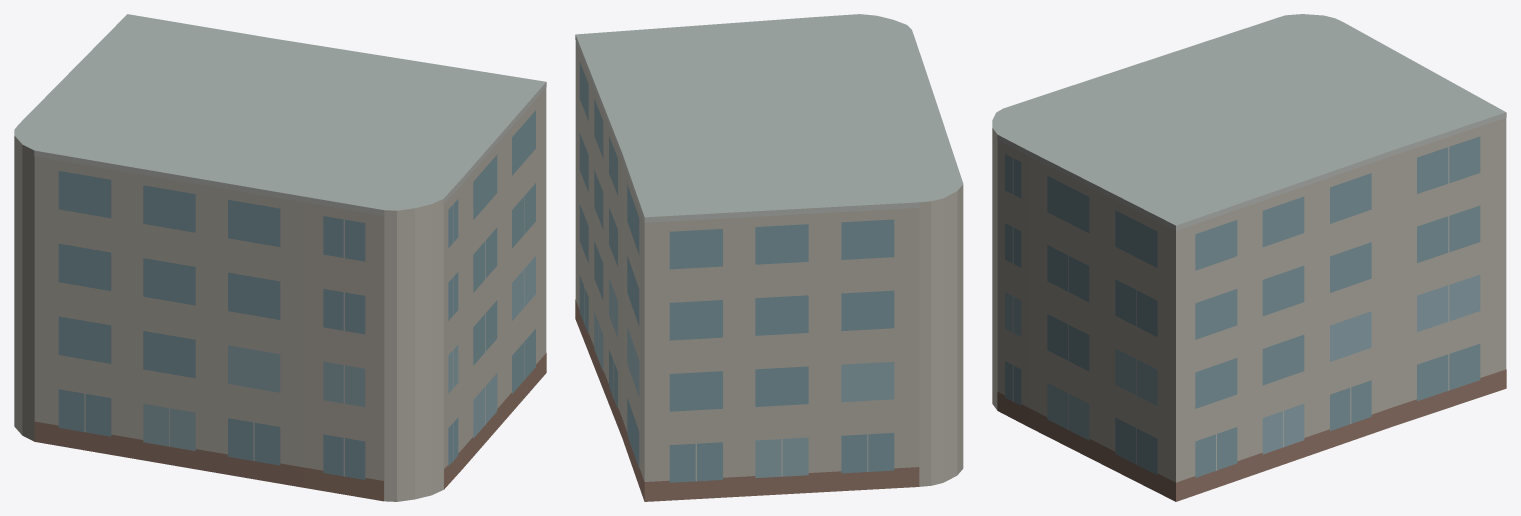
File: survey-upis-32779644.glb
The picture shows the model from 3 angles, left to right: view 1: azimuth 30°, elevation 25°; view 2: azimuth 150°, elevation 25°; view 3: azimuth 270°, elevation 25°; orthographic projection. The views are drawn at different scales.
Visible parts, largest first — view 1: survey-upis-32779644.tmp; view 2: survey-upis-32779644.tmp; view 3: survey-upis-32779644.tmp.
Boxes of the visible parts, <box> form: survey-upis-32779644.tmp: <box>14,14,546,501</box>; survey-upis-32779644.tmp: <box>575,14,963,501</box>; survey-upis-32779644.tmp: <box>992,14,1506,501</box>.
Bounding box in the file's own units: 20.75 × 12.62 × 21.29.
